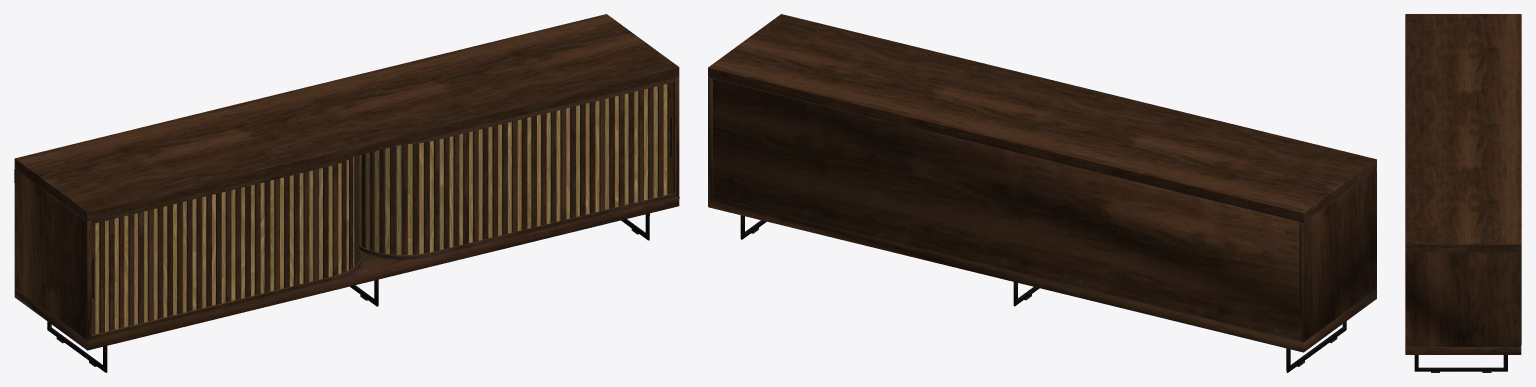
The model's file is modern_wooden_cabinet.glb.
The picture shows the model from 3 angles, left to right: view 1: azimuth 30°, elevation 25°; view 2: azimuth 150°, elevation 25°; view 3: azimuth 270°, elevation 25°; orthographic projection. The views are drawn at different scales.
Parts seen in each view (by area): view 1: modern_wooden_cabinet_body, modern_wooden_cabinet_door_l; view 2: modern_wooden_cabinet_body; view 3: modern_wooden_cabinet_body.
Boxes of the visible parts, box(x1,y1,x2,y2) form: modern_wooden_cabinet_body: box(14, 14, 679, 372); modern_wooden_cabinet_door_l: box(91, 82, 673, 334); modern_wooden_cabinet_body: box(708, 14, 1376, 372); modern_wooden_cabinet_body: box(1405, 14, 1521, 372).
Size of the model in its own units: 2.44 by 0.6801 by 0.52.
1 material, 1 textured.
